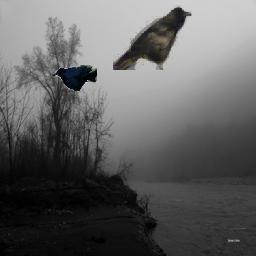Crow: (114, 6, 193, 71), (51, 65, 97, 91)
